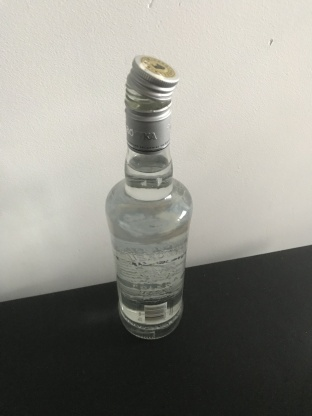nakretka: (123, 53, 180, 155)
